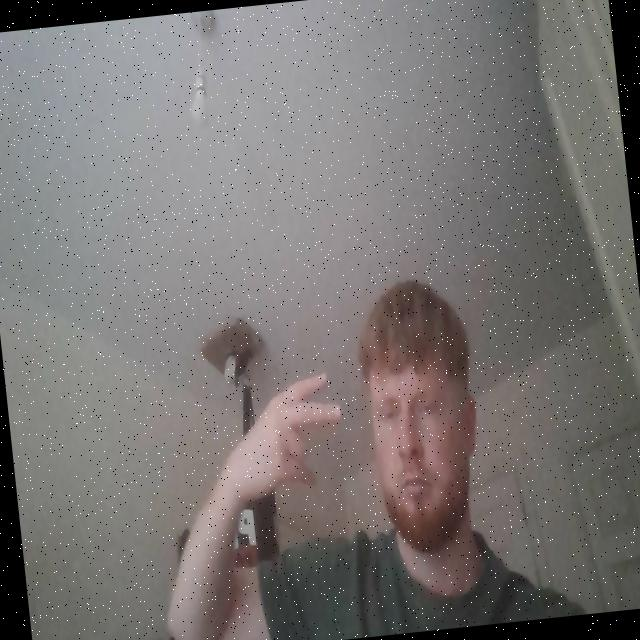scissors: (228, 362, 352, 505)
